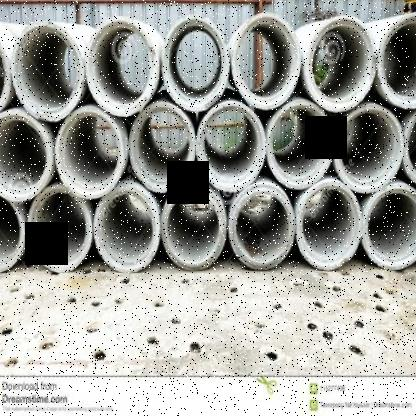pipe: (11, 20, 84, 122), (85, 15, 157, 118), (305, 15, 376, 113), (231, 12, 301, 110), (161, 14, 230, 111), (54, 106, 125, 200), (196, 101, 267, 193), (334, 104, 404, 194), (266, 100, 335, 190), (129, 102, 196, 193), (228, 184, 296, 270), (93, 185, 160, 272), (160, 184, 226, 272), (27, 184, 92, 272), (298, 181, 362, 270), (359, 184, 416, 269), (0, 110, 52, 202), (376, 11, 416, 109), (0, 186, 25, 272), (400, 108, 416, 188), (0, 20, 10, 122)
